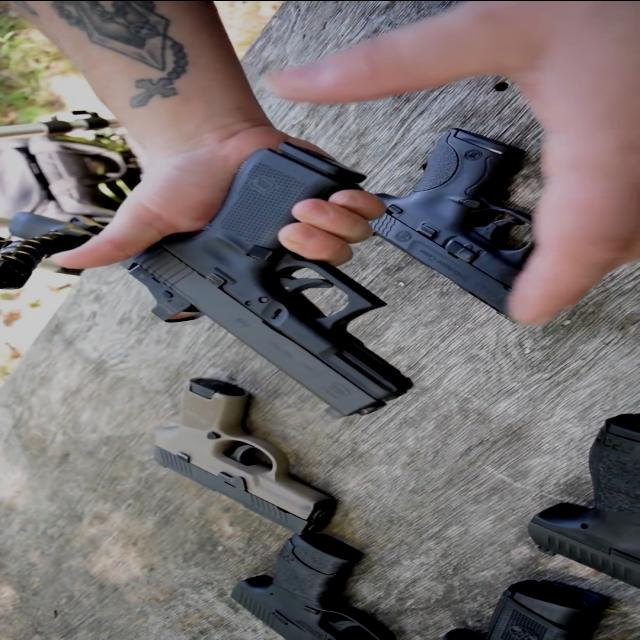handgun: (134, 129, 412, 430), (362, 106, 564, 344), (138, 369, 346, 539), (203, 530, 398, 639)
